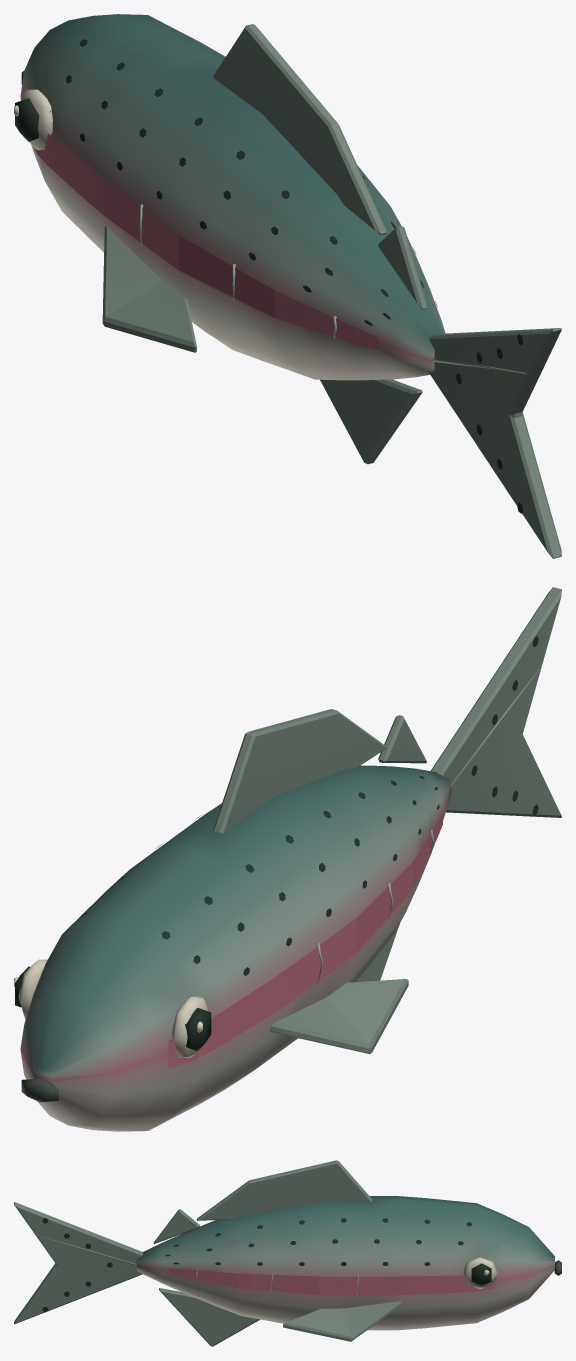
File: fish_rainbow_trout.glb
3 views of the same model, one above another, from view 1: azimuth 30°, elevation 25°; view 2: azimuth 150°, elevation 25°; view 3: azimuth 270°, elevation 25° (orthographic). The views are drawn at different scales.
Bounding box in the file's own units: 0.1184 × 0.1486 × 0.3994.
